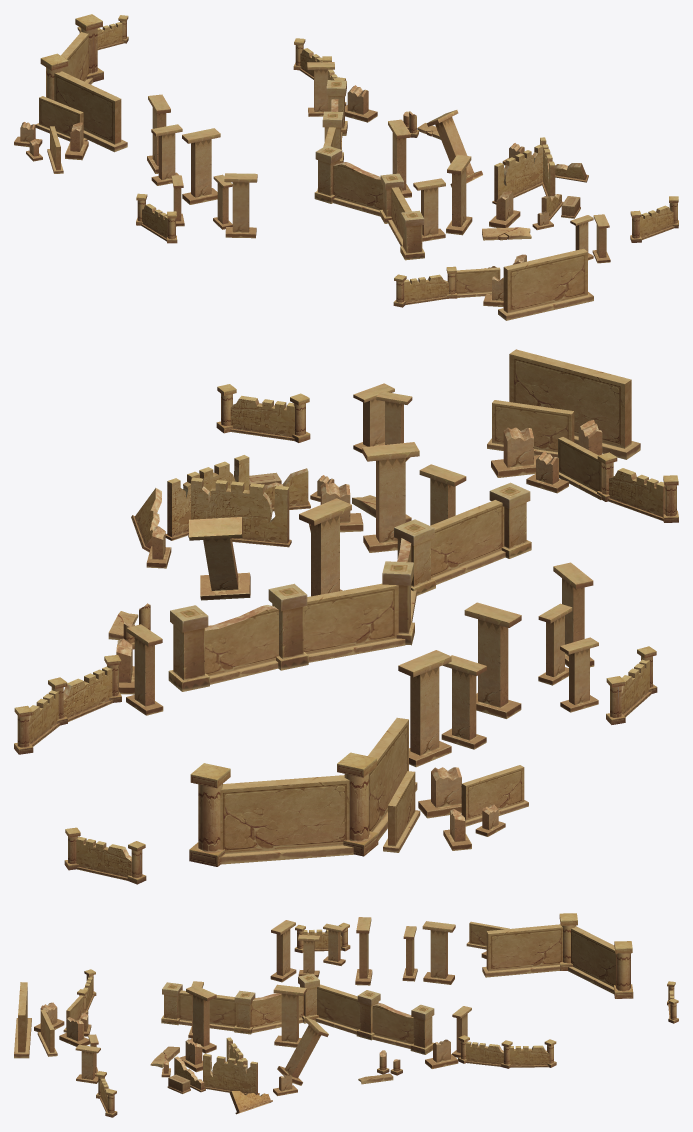
The model's file is qiangmian_07.fbx.
The picture shows the model from 3 angles, top to bottom: view 1: azimuth 30°, elevation 25°; view 2: azimuth 150°, elevation 25°; view 3: azimuth 270°, elevation 25°; orthographic projection. The views are drawn at different scales.
Visible parts, largest first — view 1: qiangmian_07; view 2: qiangmian_07; view 3: qiangmian_07.
Boxes of the visible parts, x1,y1,x2,y2 form: qiangmian_07: (14,14,678,320); qiangmian_07: (14,349,678,884); qiangmian_07: (14,913,678,1117).
Bounding box in the file's own units: 6502 × 1123 × 10372.
Materials: 1 (1 with a texture image).
